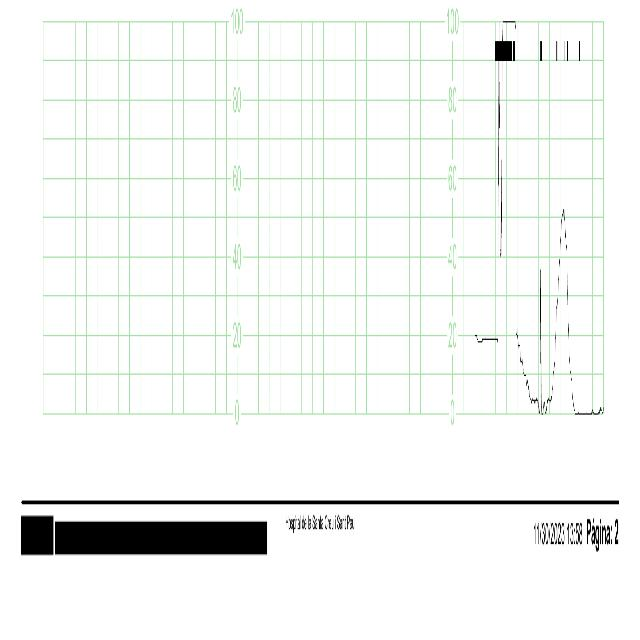contraction: (491, 19, 526, 342), (546, 215, 578, 402), (534, 268, 545, 407)
